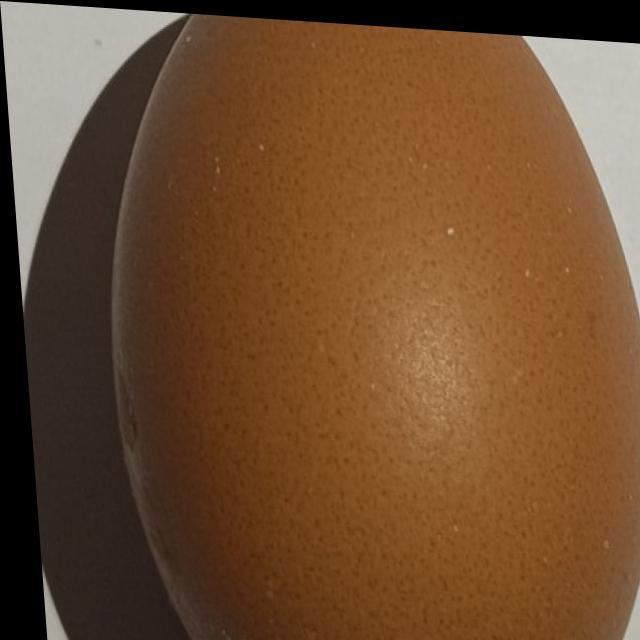fresh: (85, 4, 640, 640)
